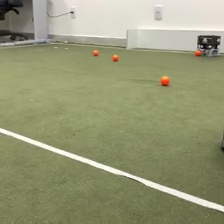ball: (160, 74, 170, 85), (111, 53, 119, 61), (92, 48, 100, 56), (195, 48, 202, 56)
goal: (125, 26, 224, 55)
robot: (195, 32, 222, 59)
